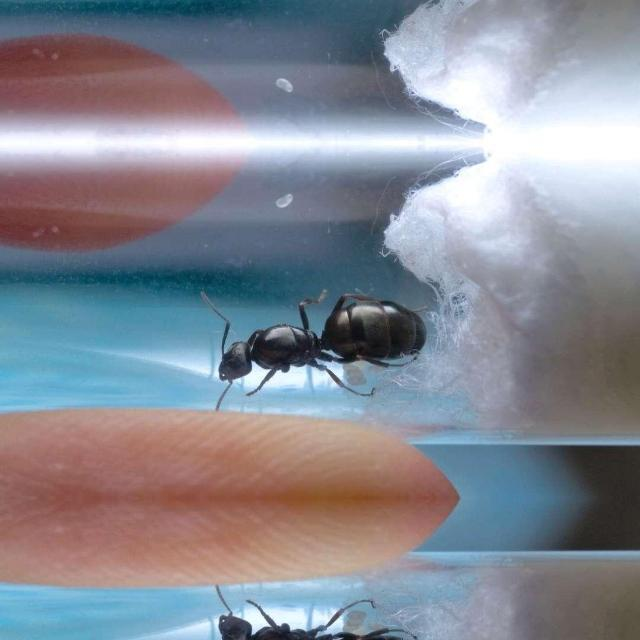Formica: (195, 279, 448, 411), (194, 584, 446, 640)
